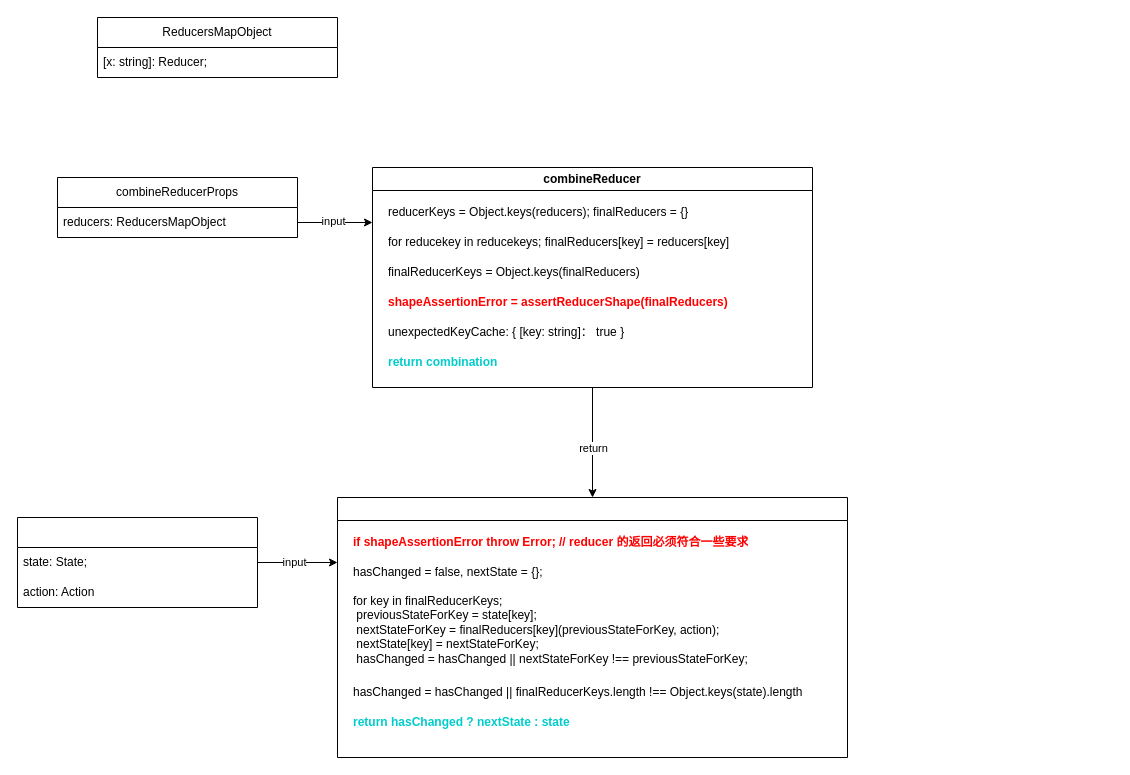
Image size: 1130x775. Some labels were removed from this diagram. The shapes that lost their labels are listed below. From the top down, each one's box as (x1, y1, x2, y2) in pixels, then its label:
(16, 516, 258, 608): combinationProps
(336, 496, 848, 758): combination
